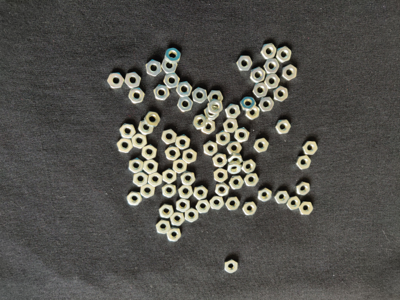nut: (125, 72, 142, 89), (144, 111, 162, 127), (261, 43, 277, 60), (263, 58, 280, 74), (146, 60, 162, 77), (108, 73, 125, 89), (154, 85, 171, 101), (176, 81, 193, 97), (178, 96, 194, 113), (276, 47, 292, 63), (250, 67, 266, 83), (165, 48, 181, 64), (129, 88, 145, 104), (192, 88, 208, 104), (120, 123, 136, 139), (132, 133, 148, 149), (162, 129, 178, 145), (164, 73, 181, 88), (237, 56, 253, 71), (282, 65, 297, 81), (265, 74, 281, 89), (274, 86, 289, 102), (225, 104, 241, 119), (208, 99, 224, 114), (193, 114, 208, 130), (138, 120, 154, 135), (117, 138, 133, 153), (296, 155, 312, 170), (235, 127, 250, 143), (175, 135, 191, 150), (165, 146, 181, 161), (142, 144, 157, 160), (143, 159, 158, 175), (129, 158, 144, 174), (229, 175, 245, 190), (302, 141, 319, 155), (253, 83, 268, 98), (259, 97, 274, 112), (241, 97, 256, 112), (201, 120, 216, 135), (173, 159, 188, 174), (133, 172, 148, 187), (148, 172, 163, 187), (162, 169, 177, 184), (213, 153, 228, 168), (227, 161, 242, 176), (181, 171, 196, 186), (215, 182, 230, 197), (162, 183, 177, 198), (159, 204, 174, 219), (156, 220, 171, 235), (162, 59, 178, 73), (208, 91, 224, 105), (204, 106, 220, 120), (223, 119, 239, 133), (217, 130, 231, 146), (127, 192, 143, 206), (214, 168, 228, 184), (225, 197, 241, 211), (245, 106, 260, 120), (276, 120, 291, 134), (204, 141, 218, 156), (254, 139, 269, 153), (183, 149, 197, 164), (140, 184, 155, 198), (296, 182, 311, 196), (258, 188, 272, 203), (243, 202, 258, 216), (210, 196, 225, 210), (193, 186, 208, 200), (178, 185, 193, 199), (196, 200, 211, 214), (176, 199, 191, 213), (185, 208, 199, 223), (171, 212, 186, 226), (167, 228, 182, 242), (227, 142, 243, 155), (274, 191, 290, 204), (242, 160, 256, 174), (225, 260, 239, 274), (299, 202, 314, 215), (228, 153, 244, 165), (287, 197, 301, 210), (244, 174, 259, 186)
